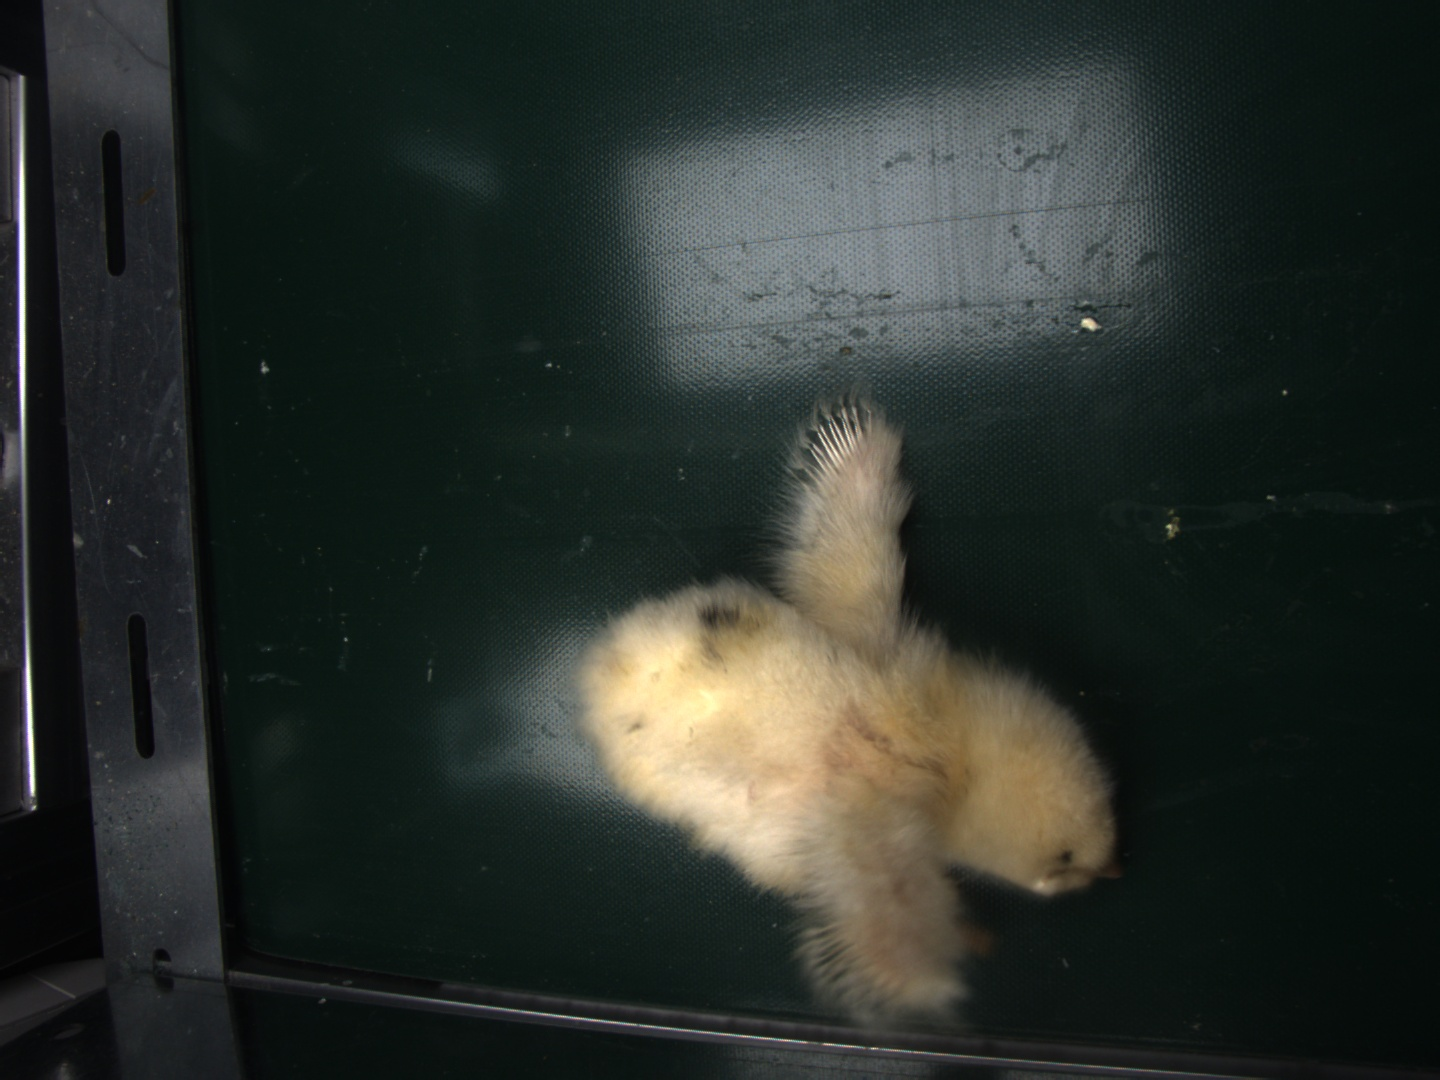male: (802, 402, 870, 482)
